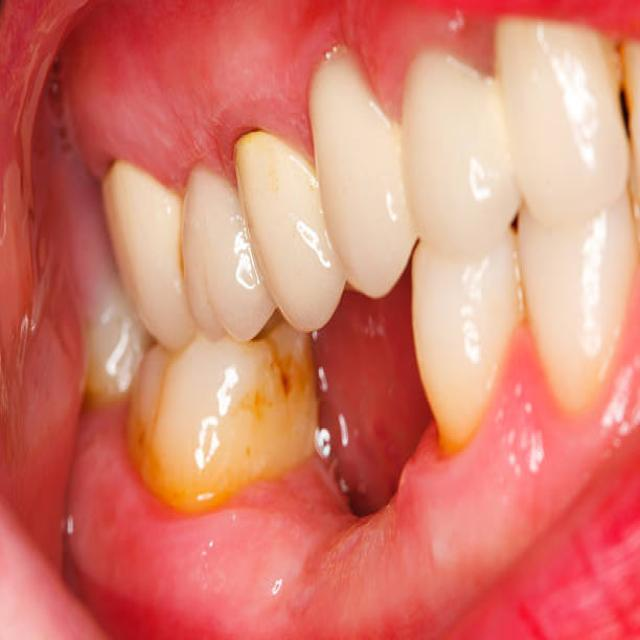caries: (596, 29, 640, 157)
